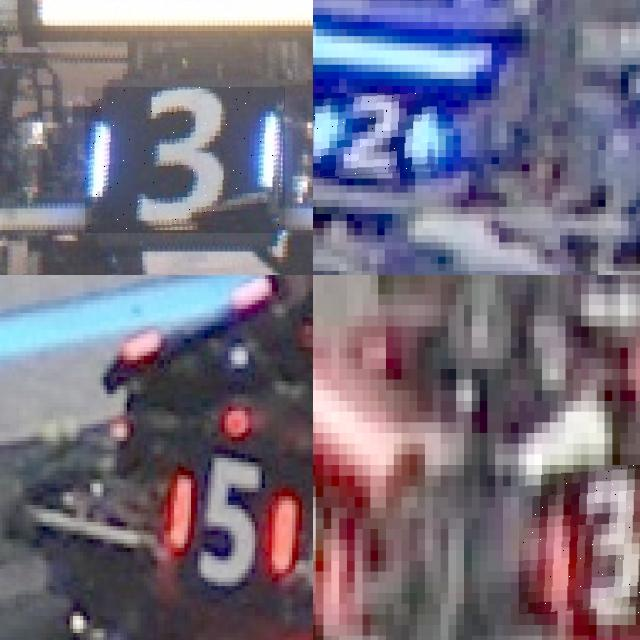B2: (313, 93, 438, 178)
B3: (85, 87, 285, 233)
R3: (518, 464, 640, 614), (313, 465, 362, 625)
R5: (167, 450, 299, 586)
